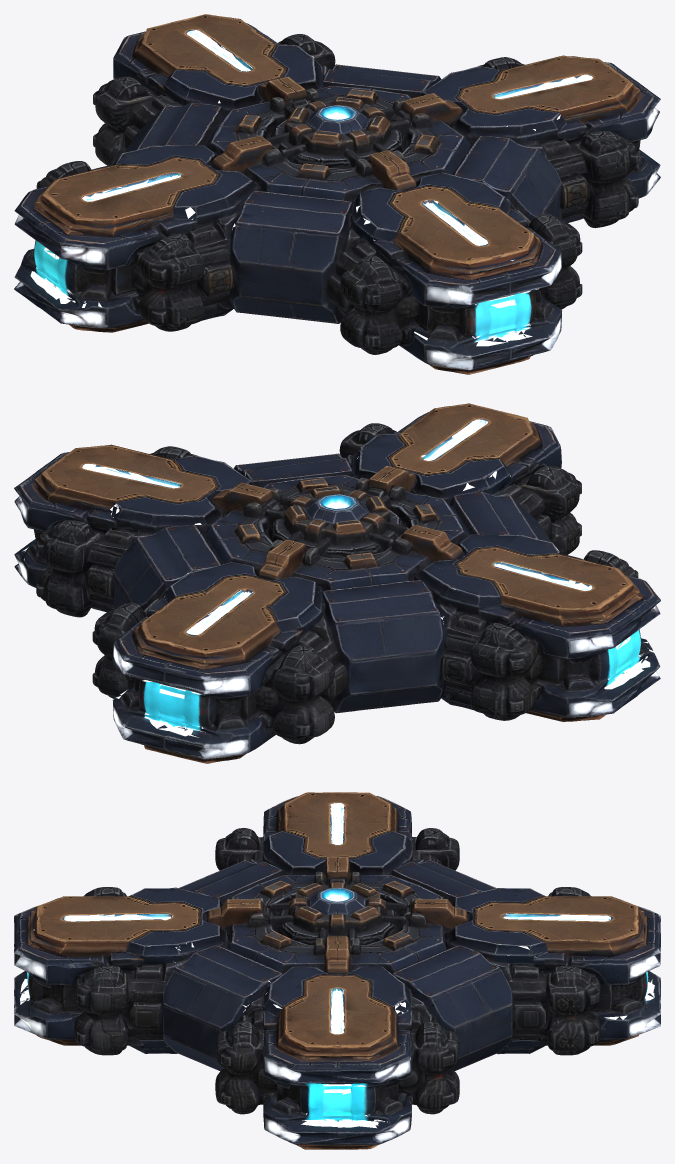
The model's file is aegis-tortoise-turret-rich.glb.
3 renders of one model, top to bottom at view 1: azimuth 30°, elevation 25°; view 2: azimuth 150°, elevation 25°; view 3: azimuth 270°, elevation 25°, orthographic. The views are drawn at different scales.
Visible parts, largest first — view 1: Mesh_0; view 2: Mesh_0; view 3: Mesh_0.
Boxes of the visible parts, bbox=[...] form: Mesh_0: bbox=[14, 14, 660, 374]; Mesh_0: bbox=[14, 403, 660, 763]; Mesh_0: bbox=[14, 792, 660, 1149].
Bounding box in the file's own units: 1 × 0.2582 × 0.9998.
2 materials, 1 textured.
